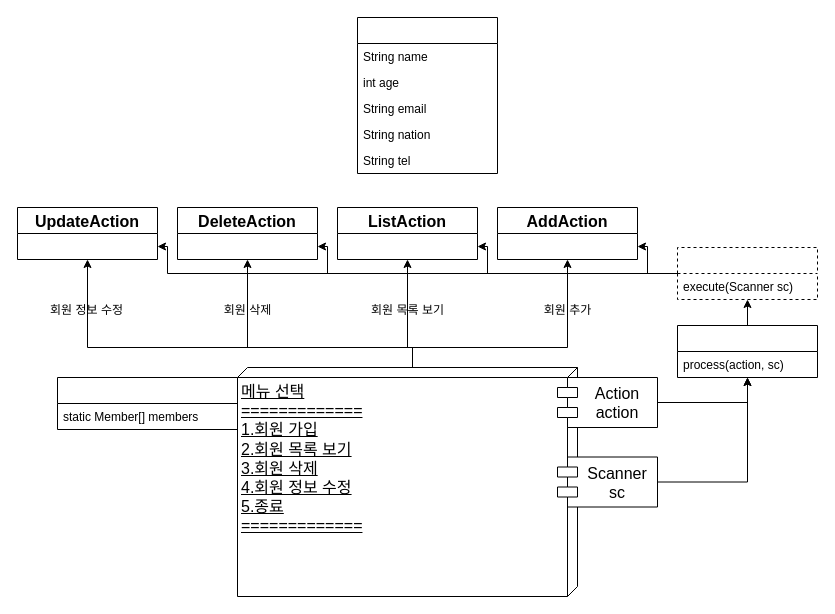
The diagram is 835 pixels wide and 614 high, and some of its shapes have lost their labels. The box of each missing label's shape, as (x1, y1, x2, y2) in pixels:
Action: (676, 246, 818, 300)
MemberMain: (56, 376, 238, 430)
MemberService: (676, 324, 818, 378)
MemberVO: (356, 16, 498, 174)
